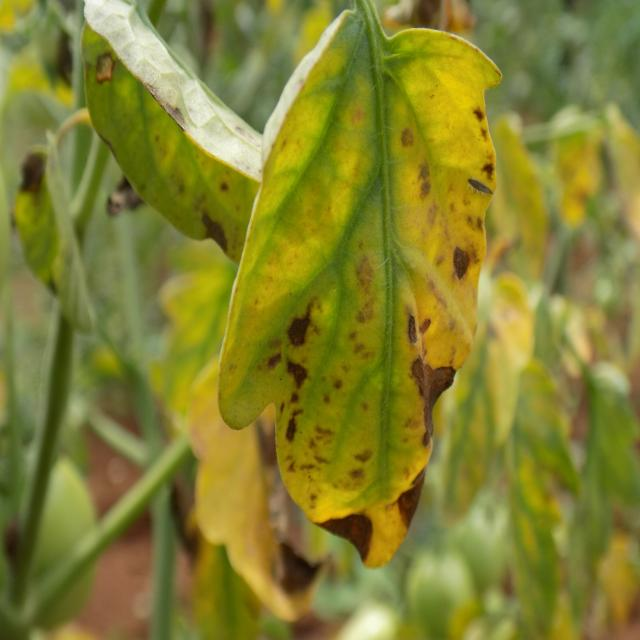tomato_early blight: (221, 17, 503, 568), (79, 0, 249, 258), (179, 346, 301, 629), (18, 141, 98, 335), (547, 103, 606, 229)
